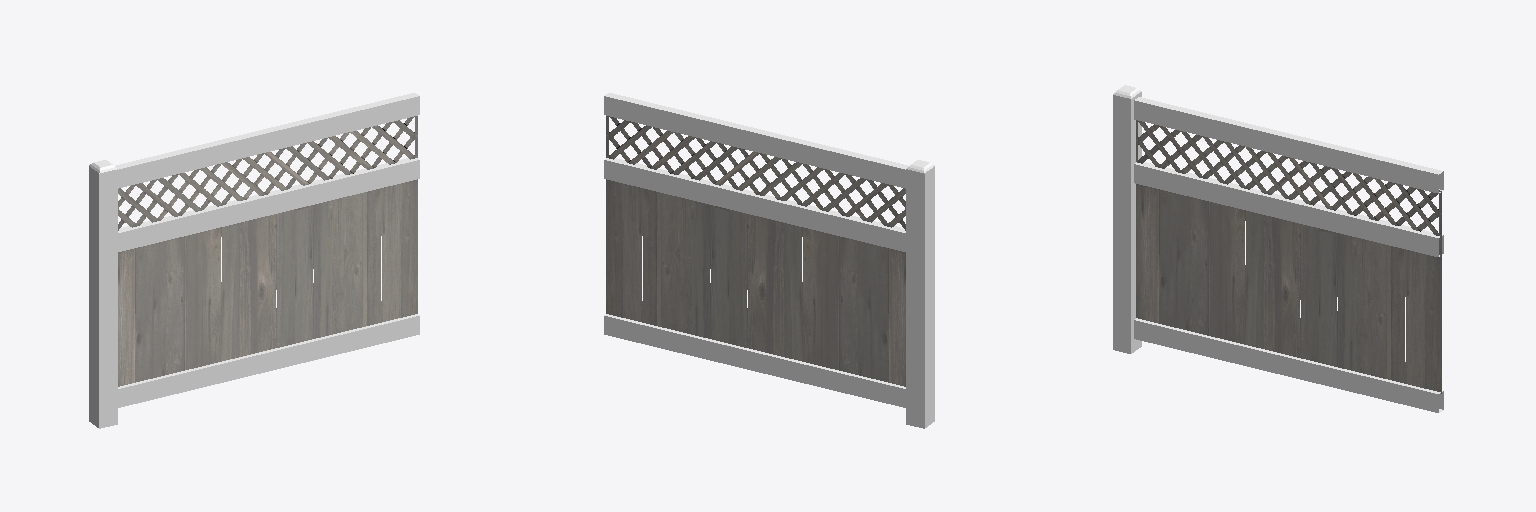
3 views of the same model, side by side, from view 1: azimuth 30°, elevation 25°; view 2: azimuth 150°, elevation 25°; view 3: azimuth 330°, elevation 25° (orthographic).
Visible parts, largest first — view 1: Plane, F_M1_Top_Support.001, F_M1_Post_02.001; view 2: Plane, F_M1_Top_Support.001, F_M1_Post_02.001; view 3: Plane, F_M1_Top_Support.001, F_M1_Post_02.001.
Boxes of the visible parts, x1=… form: Plane: x1=118, y1=116, x2=417, y2=386; F_M1_Top_Support.001: x1=115, y1=93, x2=419, y2=407; F_M1_Post_02.001: x1=89, y1=160, x2=117, y2=428; Plane: x1=606, y1=116, x2=905, y2=386; F_M1_Top_Support.001: x1=604, y1=93, x2=908, y2=407; F_M1_Post_02.001: x1=906, y1=160, x2=934, y2=428; Plane: x1=1136, y1=120, x2=1441, y2=393; F_M1_Top_Support.001: x1=1134, y1=97, x2=1443, y2=412; F_M1_Post_02.001: x1=1113, y1=85, x2=1141, y2=353.
Bounding box in the file's own units: 0.9893 × 0.7576 × 0.0555.
3 materials, 1 textured.